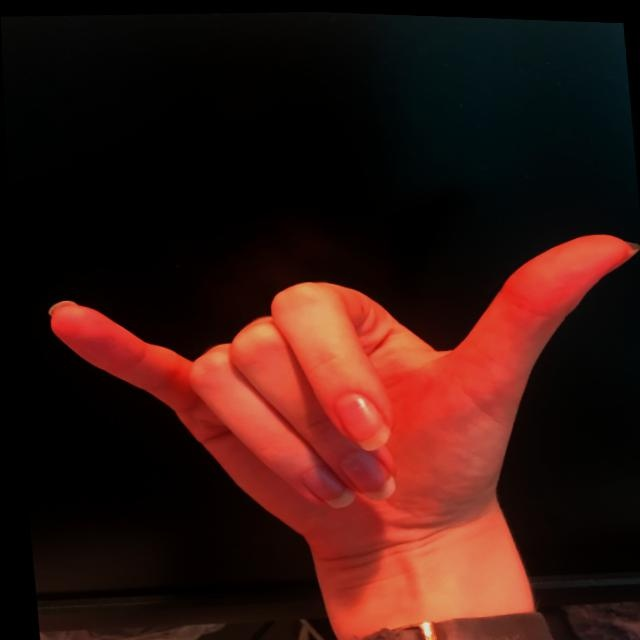Y: (31, 205, 639, 560)
